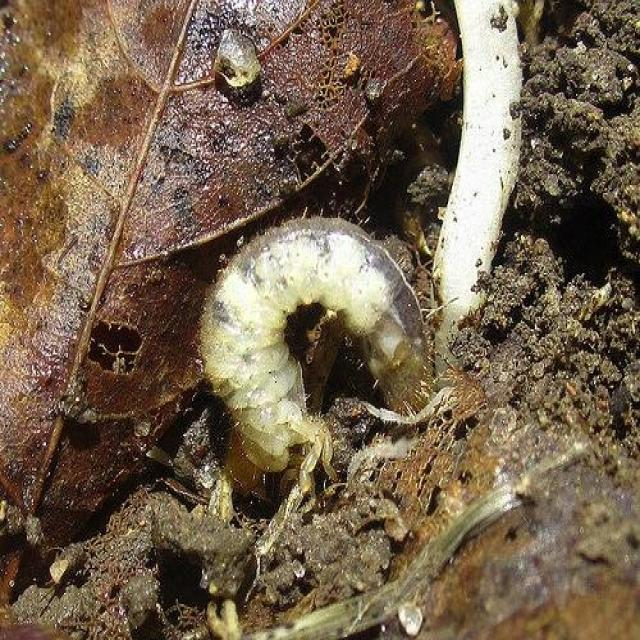grub: (203, 213, 447, 479)
